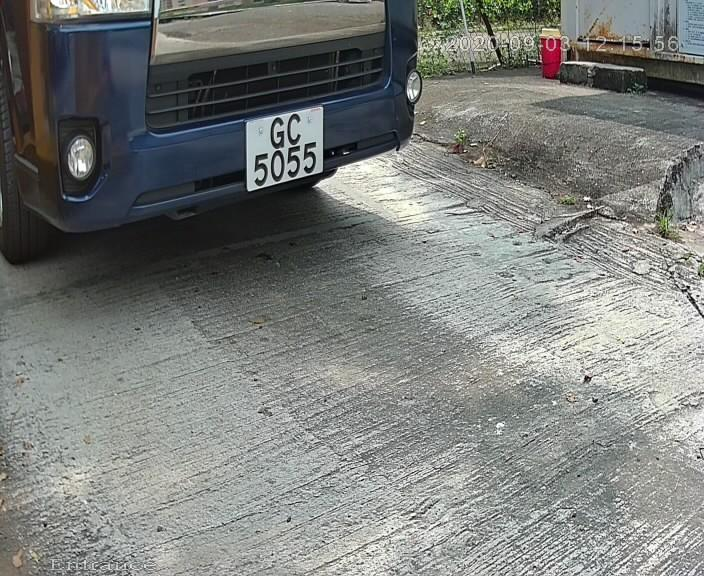Car: (23, 3, 475, 296)
License Plate: (236, 101, 331, 199)
